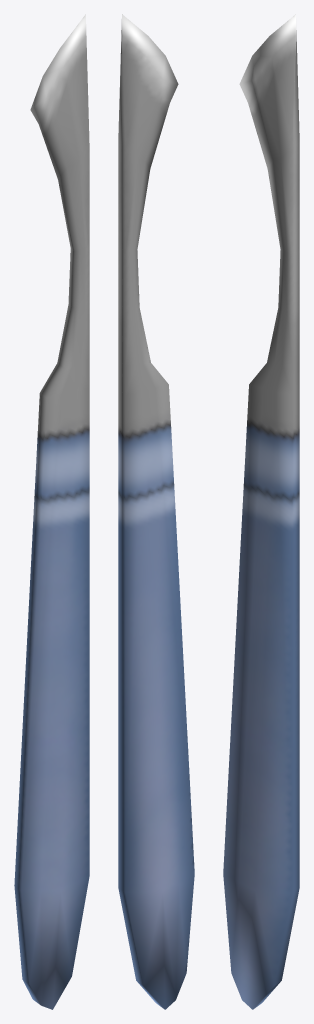
The model's file is scalpel.dae.
3 views of the same model, side by side, from view 1: azimuth 30°, elevation 25°; view 2: azimuth 210°, elevation 25°; view 3: azimuth 330°, elevation 25° (orthographic).
Parts seen in each view (by area): view 1: Cube.003; view 2: Cube.003; view 3: Cube.003.
Part boxes in pixels (x1,y1,x2,y2): Cube.003: [14, 14, 89, 1009]; Cube.003: [118, 14, 194, 1009]; Cube.003: [223, 14, 299, 1009].
Size of the model in its own units: 0.2142 by 0.0824 by 2.97.
Materials: 1 (1 with a texture image).
